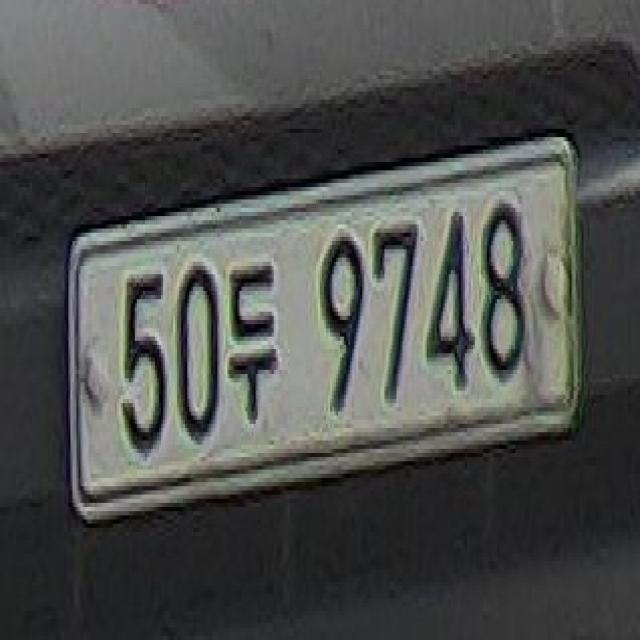0: (170, 256, 224, 450)
4: (424, 202, 475, 411)
5: (116, 258, 168, 464)
7: (368, 213, 418, 421)
8: (478, 187, 530, 390)
9: (312, 206, 364, 444)
du: (227, 246, 279, 448)
license_plate: (63, 109, 592, 554)
